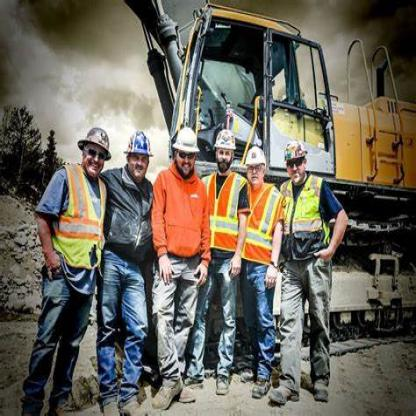person: (28, 116, 95, 408), (283, 117, 345, 406), (154, 101, 202, 410), (103, 116, 151, 414), (203, 107, 240, 403), (242, 132, 282, 402)
